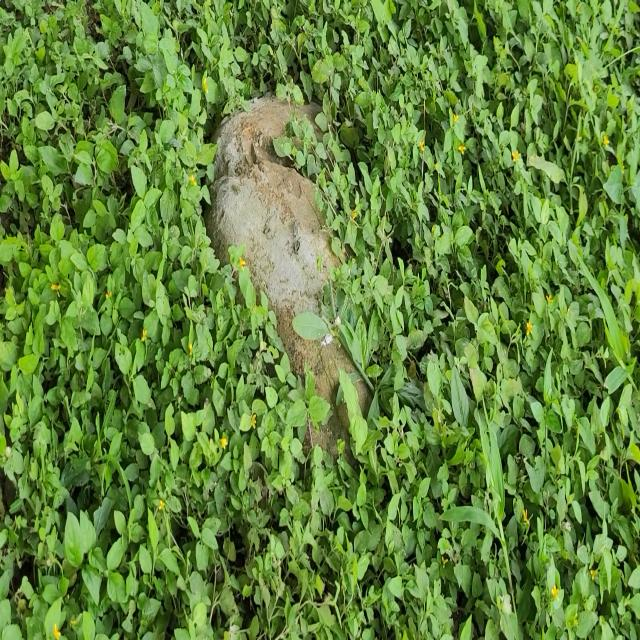grass: (0, 0, 640, 639), (0, 0, 640, 638)
stone: (205, 94, 354, 405), (305, 406, 348, 454), (355, 379, 370, 412), (296, 103, 320, 120)
